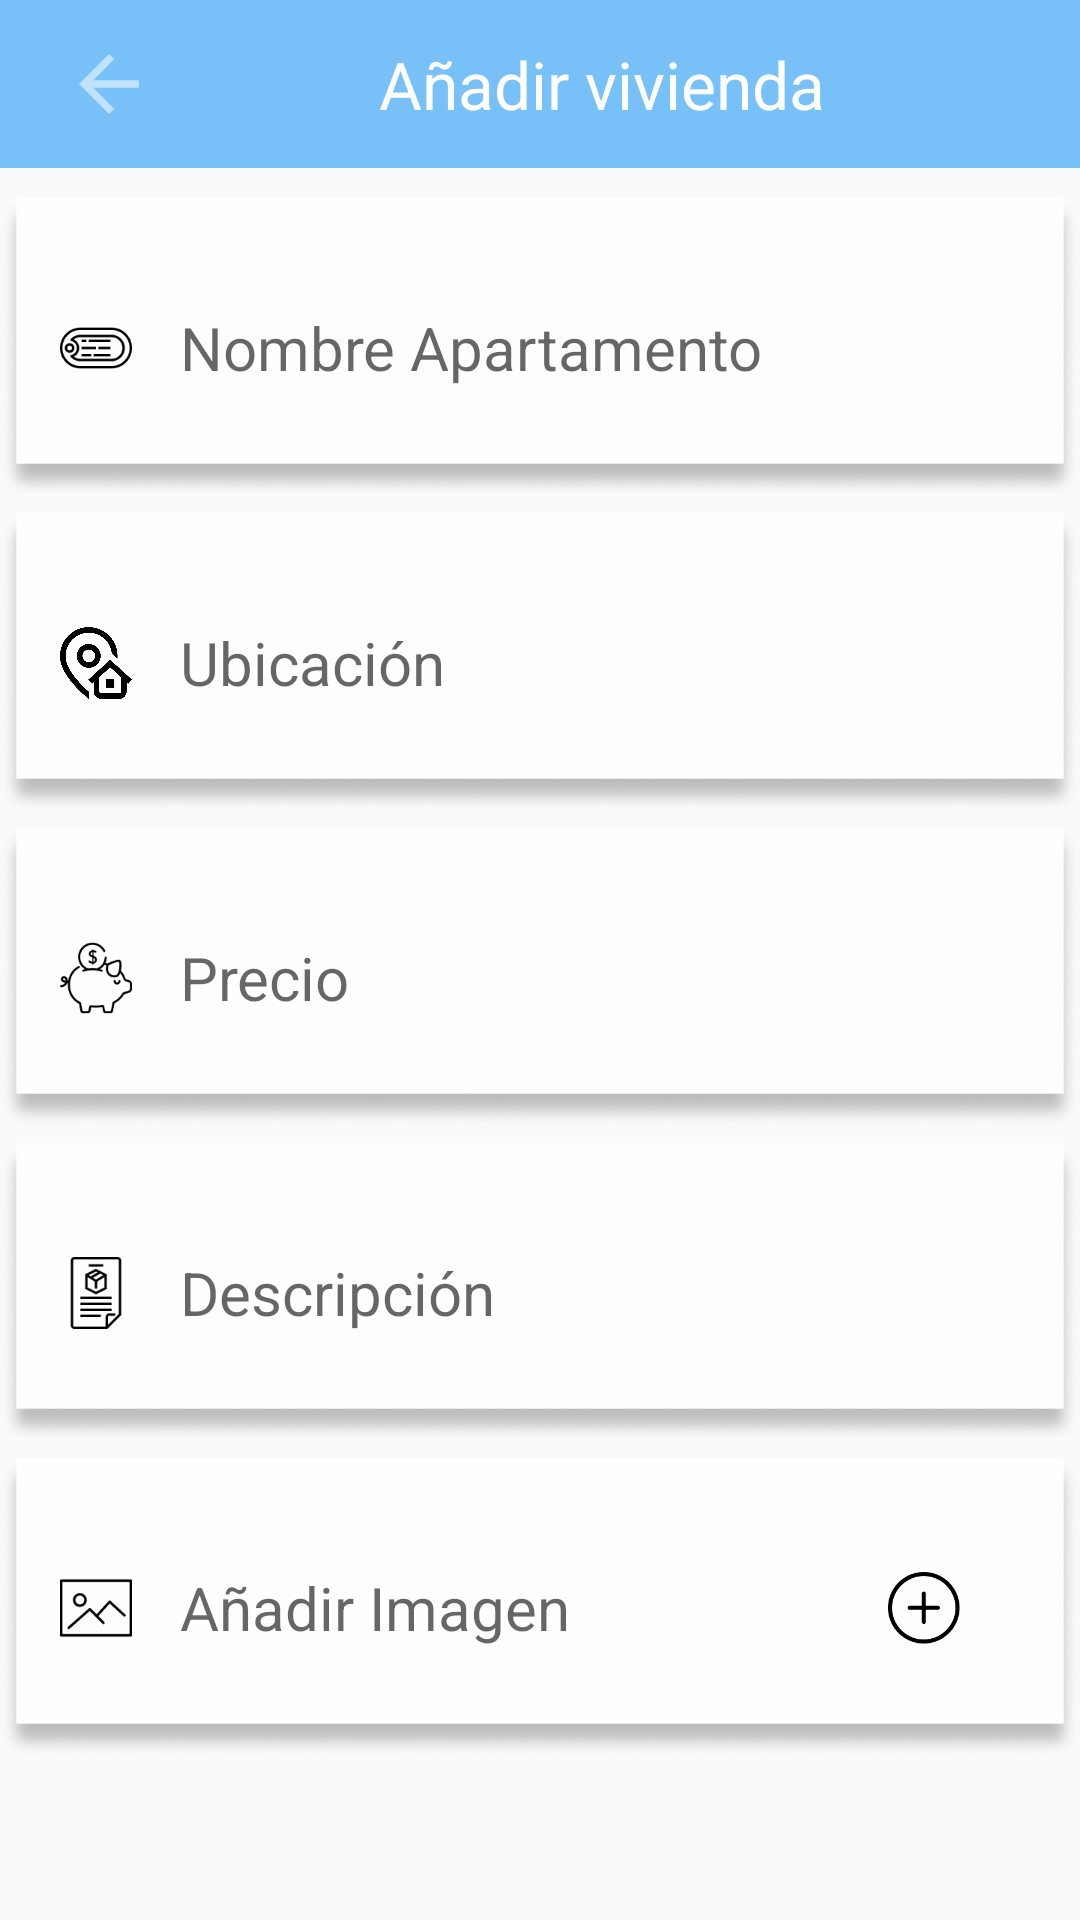

Where icons sit on this 1080*1920 app screen, as (x1, y1, x2, y2):
address: (60, 627, 132, 699)
back: (79, 54, 139, 114)
description: (70, 1257, 122, 1329)
dog tag: (60, 327, 132, 369)
piggy bank: (60, 942, 132, 1014)
